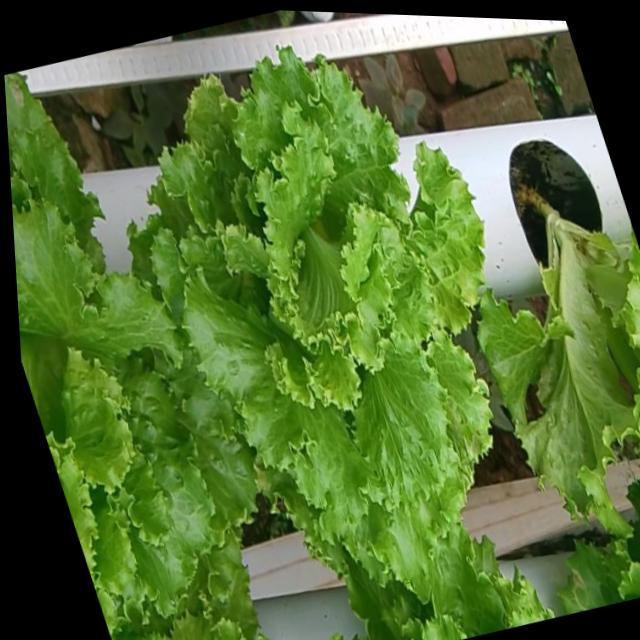Mature: (150, 30, 496, 570), (11, 172, 261, 601)
